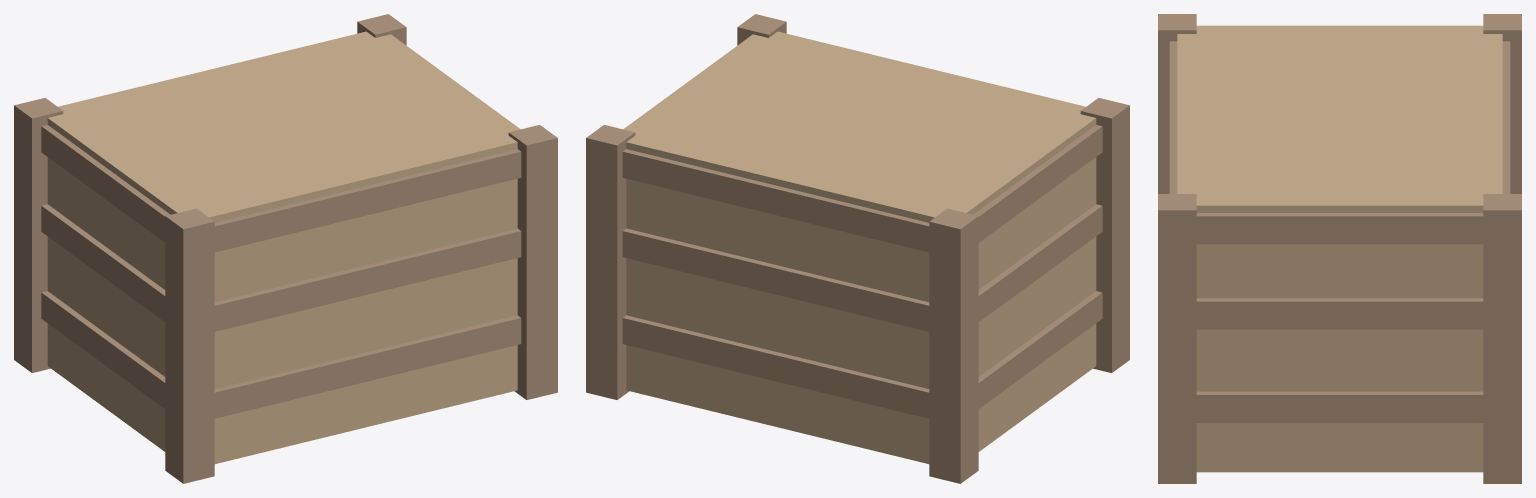
File: crate_A.glb
The picture shows the model from 3 angles, left to right: view 1: azimuth 30°, elevation 25°; view 2: azimuth 150°, elevation 25°; view 3: azimuth 270°, elevation 25°; orthographic projection. The views are drawn at different scales.
Parts seen in each view (by area): view 1: crate_A; view 2: crate_A; view 3: crate_A.
Boxes of the visible parts, x1,y1,x2,y2 form: crate_A: [14, 14, 557, 483]; crate_A: [586, 14, 1129, 483]; crate_A: [1158, 14, 1521, 483].
Bounding box in the file's own units: 0.6 × 0.39 × 0.47.
